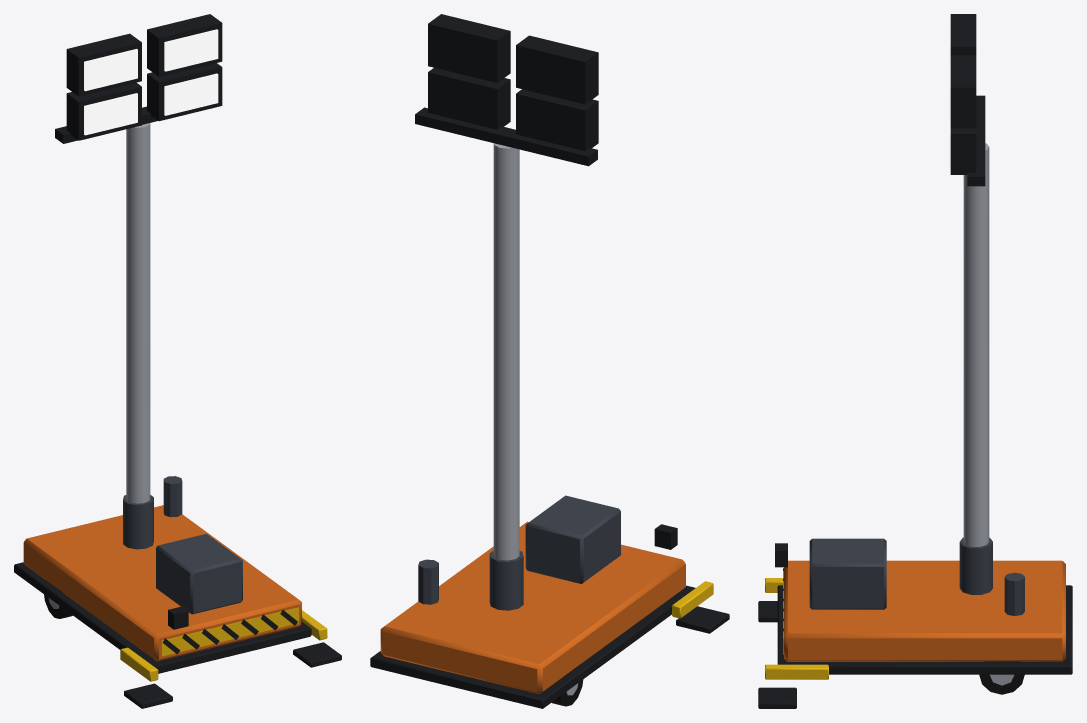
The model's file is hangartool_light_tower.glb.
3 renders of one model, left to right at view 1: azimuth 30°, elevation 25°; view 2: azimuth 150°, elevation 25°; view 3: azimuth 270°, elevation 25°, orthographic. The views are drawn at different scales.
Visible parts, largest first — view 1: hangartool_light_tower; view 2: hangartool_light_tower; view 3: hangartool_light_tower.
Part boxes in pixels (x1=…): hangartool_light_tower: x1=14, y1=14, x2=341, y2=708; hangartool_light_tower: x1=370, y1=14, x2=729, y2=708; hangartool_light_tower: x1=758, y1=14, x2=1072, y2=708.
Bounding box in the file's own units: 1.9 × 5.23 × 2.45.
